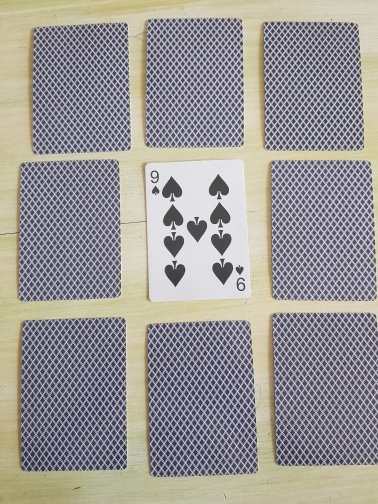nine: (143, 158, 252, 303)
